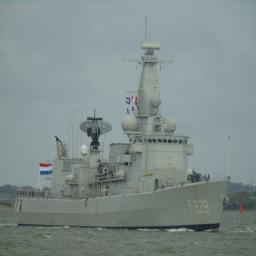Fragata: (14, 9, 237, 229)
